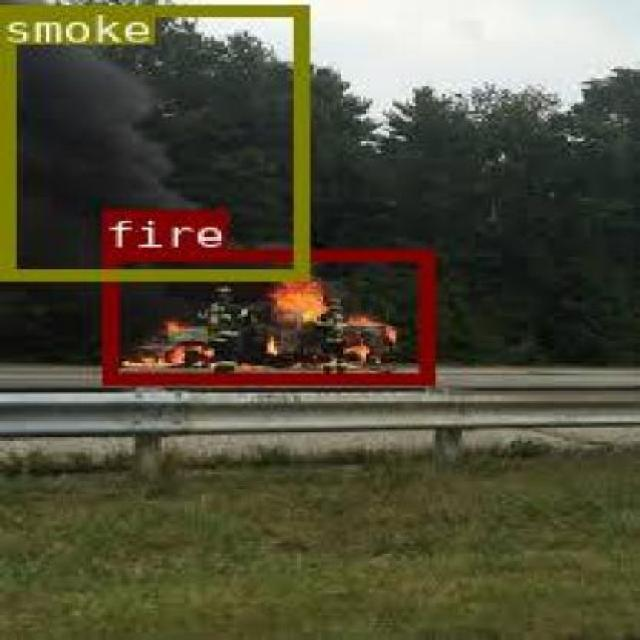Fire: (100, 248, 432, 382)
Smoke: (14, 29, 306, 277)
